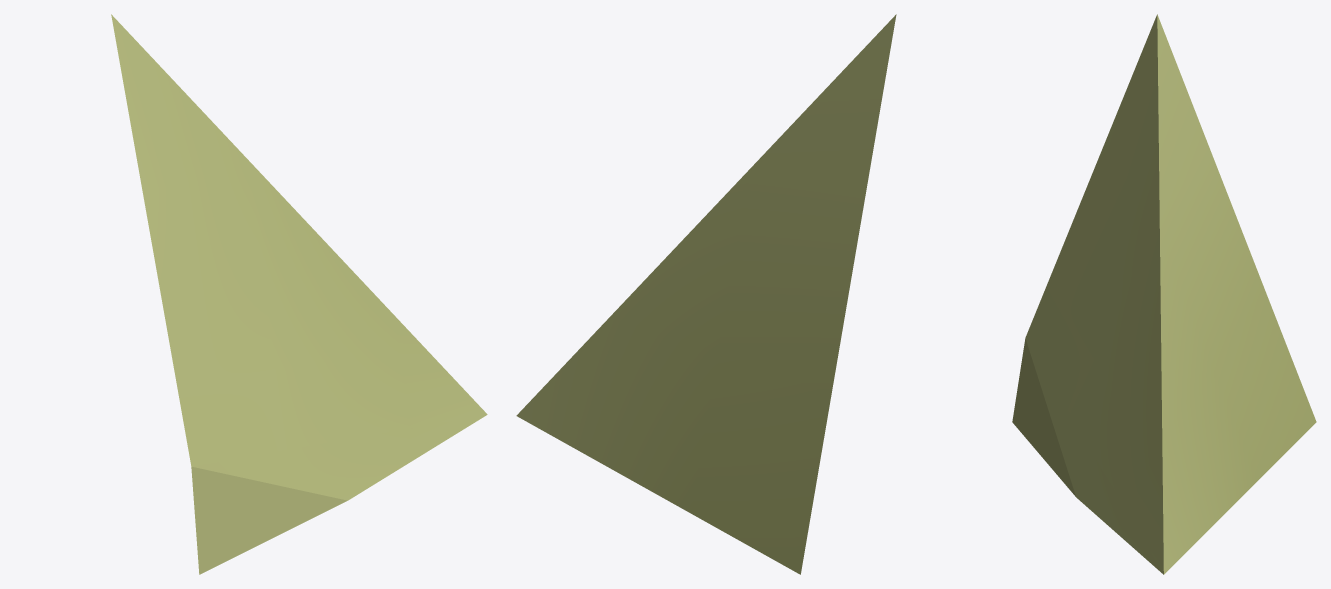
The picture shows the model from 3 angles, left to right: view 1: azimuth 30°, elevation 25°; view 2: azimuth 150°, elevation 25°; view 3: azimuth 270°, elevation 25°; orthographic projection. The views are drawn at different scales.
Bounding box in the file's own units: 0.0488 × 0.0609 × 0.0411.
Materials: 1 (1 with a texture image).
